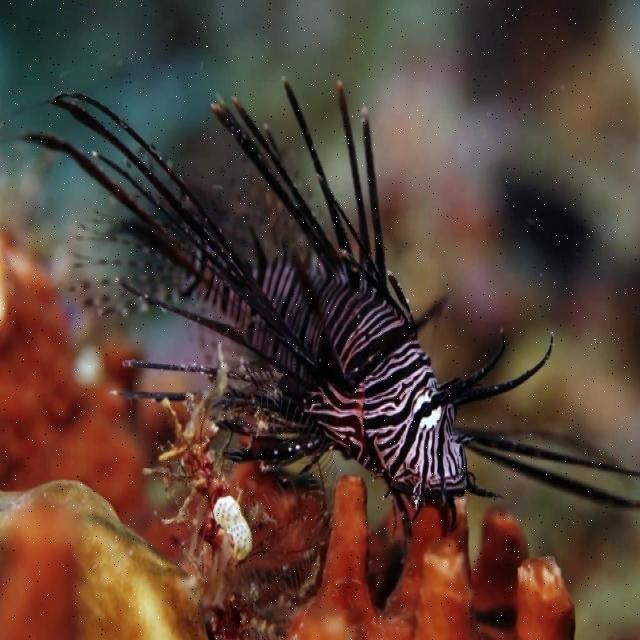fish: (11, 70, 639, 529)
reefs: (0, 372, 579, 639)
